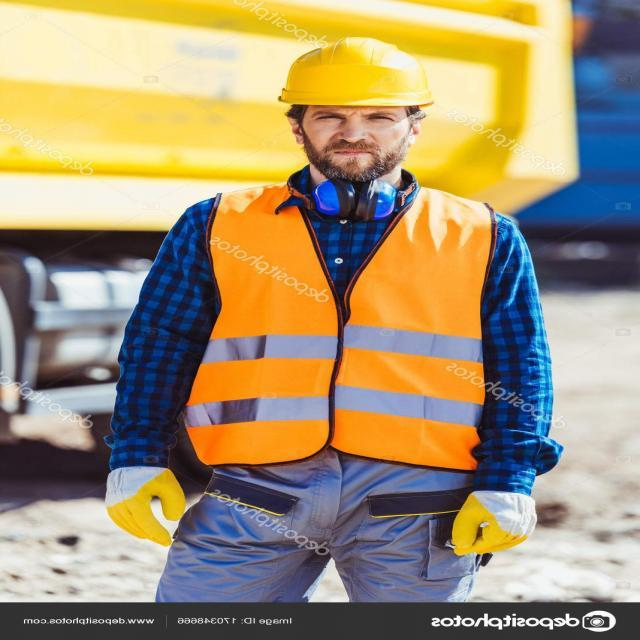reflective_jacket: (174, 182, 509, 473)
safety_helmet: (272, 34, 438, 110)
